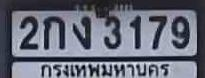1: (129, 14, 140, 48)
2: (19, 14, 37, 48)
3: (103, 15, 120, 48)
7: (148, 15, 166, 49)
9: (170, 15, 188, 48)
A01: (43, 15, 64, 49)
A07: (72, 15, 90, 48)
BKK: (39, 61, 175, 78)
